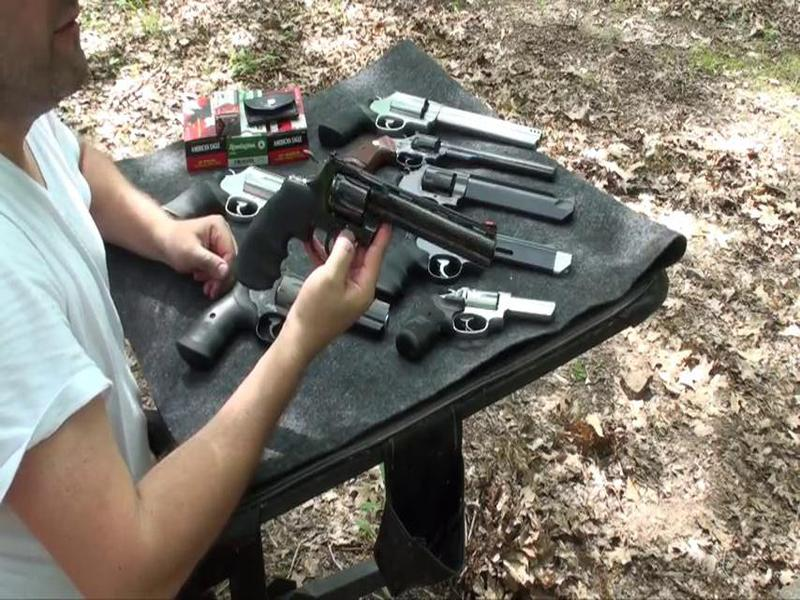Revolver: (224, 152, 498, 301)
